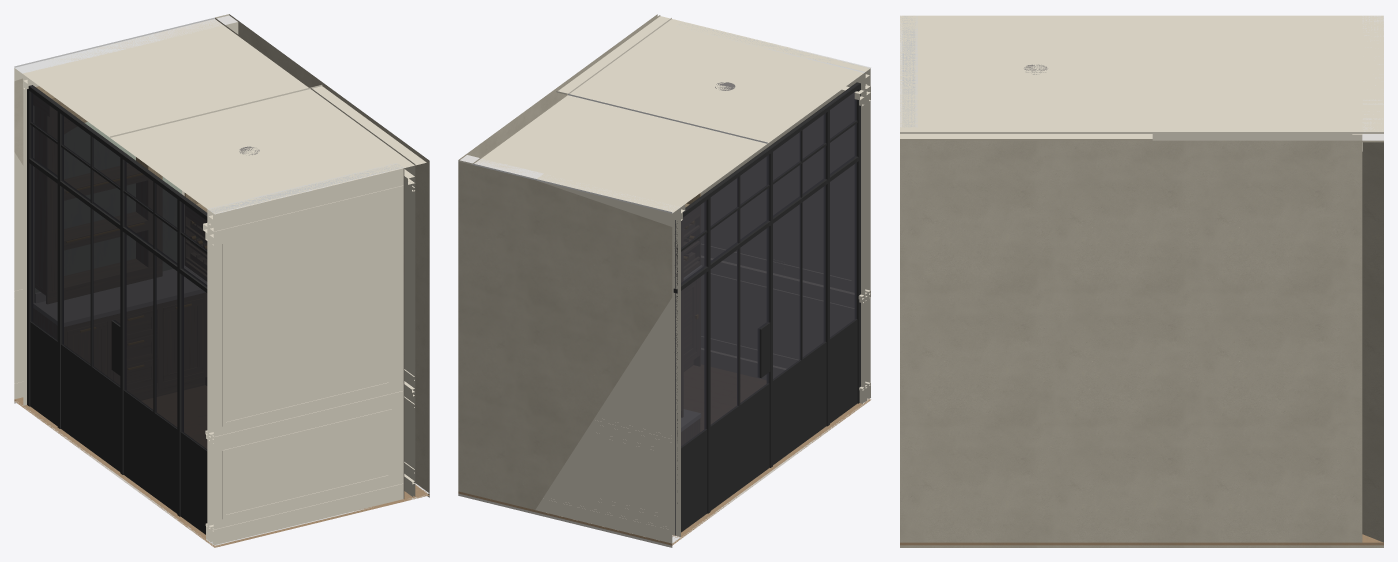
File: wine-cellar-24cdb2a632f2.glb
The picture shows the model from 3 angles, left to right: view 1: azimuth 30°, elevation 25°; view 2: azimuth 150°, elevation 25°; view 3: azimuth 270°, elevation 25°; orthographic projection. The views are drawn at different scales.
Visible parts, largest first — view 1: wine-cellar-bd4023b7987ad736, wine-cellar-cbd4bf73d9724a66, wine-cellar-2575515a05775d9e, wine-cellar-9a0e9ee9b2a451d7, wine-cellar-37ce92237345380e, wine-cellar-af97eba351c411ae, wine-cellar-78db8eb36c243d8d, wine-cellar-a72fb3d9723cf509, wine-cellar-bfd21f48dd17272b, wine-cellar-bfb9fa537cd11d1d, wine-cellar-3b0077416469e01b, wine-cellar-9329b5775314f375 (+20 smaller); view 2: wine-cellar-bfb9fa537cd11d1d, wine-cellar-cbd4bf73d9724a66, wine-cellar-005133a37c0fb221, wine-cellar-bd4023b7987ad736, wine-cellar-2575515a05775d9e, wine-cellar-9a0e9ee9b2a451d7, wine-cellar-37ce92237345380e, wine-cellar-3b0077416469e01b, wine-cellar-af97eba351c411ae, wine-cellar-f2a242bb00ea19a7, wine-cellar-b50f223d50a24895, wine-cellar-7ab3fc8e91a813ab (+15 smaller); view 3: wine-cellar-af97eba351c411ae, wine-cellar-2575515a05775d9e, wine-cellar-9a0e9ee9b2a451d7, wine-cellar-005133a37c0fb221, wine-cellar-3b0077416469e01b, wine-cellar-bd4023b7987ad736, wine-cellar-76fec1e12e3db62a, wine-cellar-8da509c3b17684ba.
Part boxes in pixels (x1=…): wine-cellar-bd4023b7987ad736: x1=207, y1=163, x2=404, y2=545; wine-cellar-cbd4bf73d9724a66: x1=30, y1=85, x2=207, y2=450; wine-cellar-2575515a05775d9e: x1=110, y1=85, x2=426, y2=214; wine-cellar-9a0e9ee9b2a451d7: x1=14, y1=17, x2=309, y2=137; wine-cellar-37ce92237345380e: x1=30, y1=321, x2=207, y2=534; wine-cellar-af97eba351c411ae: x1=215, y1=14, x2=429, y2=496; wine-cellar-78db8eb36c243d8d: x1=35, y1=107, x2=162, y2=303; wine-cellar-a72fb3d9723cf509: x1=34, y1=107, x2=181, y2=301; wine-cellar-bfd21f48dd17272b: x1=68, y1=299, x2=202, y2=389; wine-cellar-bfb9fa537cd11d1d: x1=14, y1=34, x2=160, y2=405; wine-cellar-3b0077416469e01b: x1=14, y1=386, x2=429, y2=547; wine-cellar-9329b5775314f375: x1=212, y1=483, x2=403, y2=545; wine-cellar-bfb9fa537cd11d1d: x1=535, y1=175, x2=680, y2=543; wine-cellar-cbd4bf73d9724a66: x1=675, y1=83, x2=857, y2=535; wine-cellar-005133a37c0fb221: x1=458, y1=159, x2=543, y2=509; wine-cellar-bd4023b7987ad736: x1=677, y1=22, x2=871, y2=402; wine-cellar-2575515a05775d9e: x1=556, y1=15, x2=869, y2=143; wine-cellar-9a0e9ee9b2a451d7: x1=472, y1=94, x2=767, y2=213; wine-cellar-37ce92237345380e: x1=681, y1=319, x2=857, y2=532; wine-cellar-3b0077416469e01b: x1=458, y1=365, x2=870, y2=545; wine-cellar-af97eba351c411ae: x1=458, y1=14, x2=671, y2=164; wine-cellar-f2a242bb00ea19a7: x1=705, y1=193, x2=710, y2=513; wine-cellar-b50f223d50a24895: x1=824, y1=105, x2=829, y2=426; wine-cellar-7ab3fc8e91a813ab: x1=855, y1=82, x2=860, y2=403; wine-cellar-af97eba351c411ae: x1=900, y1=132, x2=1383, y2=542; wine-cellar-2575515a05775d9e: x1=900, y1=15, x2=1152, y2=140; wine-cellar-9a0e9ee9b2a451d7: x1=1152, y1=15, x2=1383, y2=131; wine-cellar-005133a37c0fb221: x1=1362, y1=99, x2=1383, y2=542; wine-cellar-3b0077416469e01b: x1=900, y1=534, x2=1383, y2=545; wine-cellar-bd4023b7987ad736: x1=900, y1=15, x2=917, y2=127; wine-cellar-76fec1e12e3db62a: x1=900, y1=545, x2=1383, y2=547; wine-cellar-8da509c3b17684ba: x1=1352, y1=15, x2=1362, y2=151.
Bounding box in the file's own units: 2.03 × 3.05 × 3.28.
Materials: 25 (7 with a texture image).
